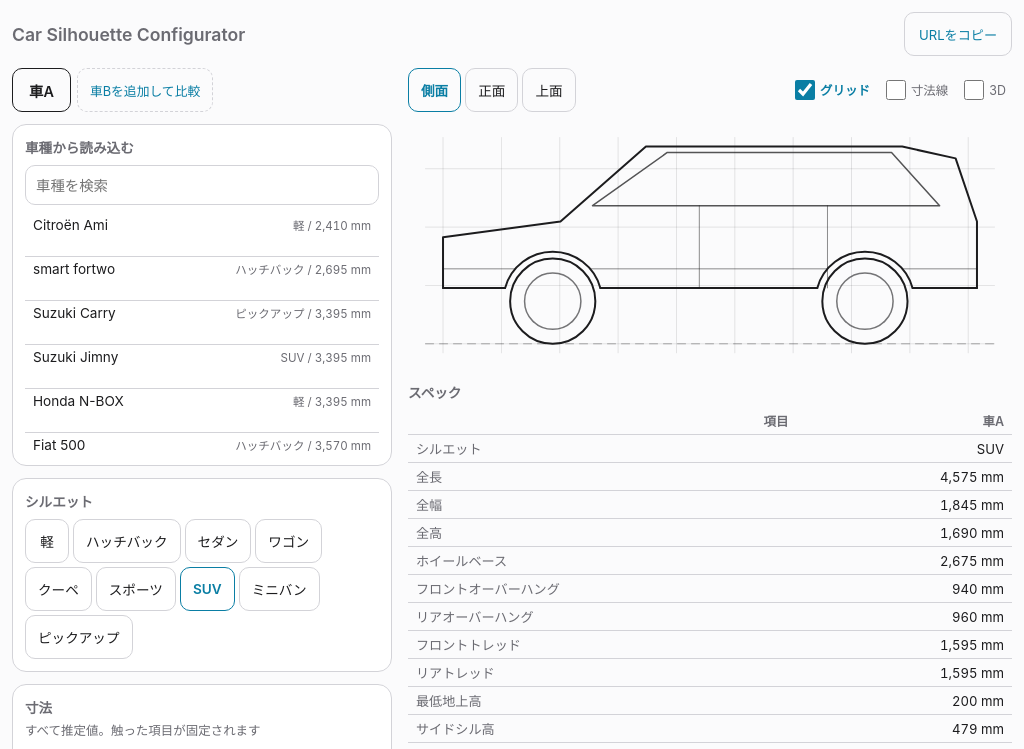
App URL への保存と復元 › コピーできない環境では URL を手動選択できる形で出す
Click the button "URLをコピー" at (958, 34), box [904, 12, 1012, 56]
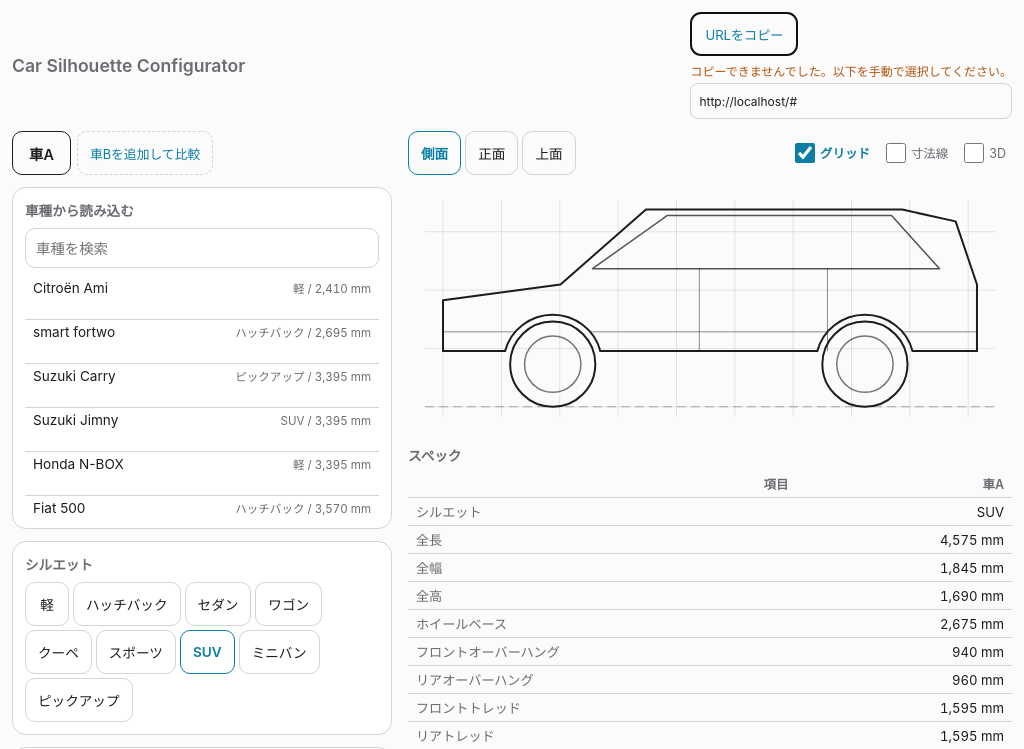
Result: the field named "共有URL" is shown at [690, 83, 1012, 119]
